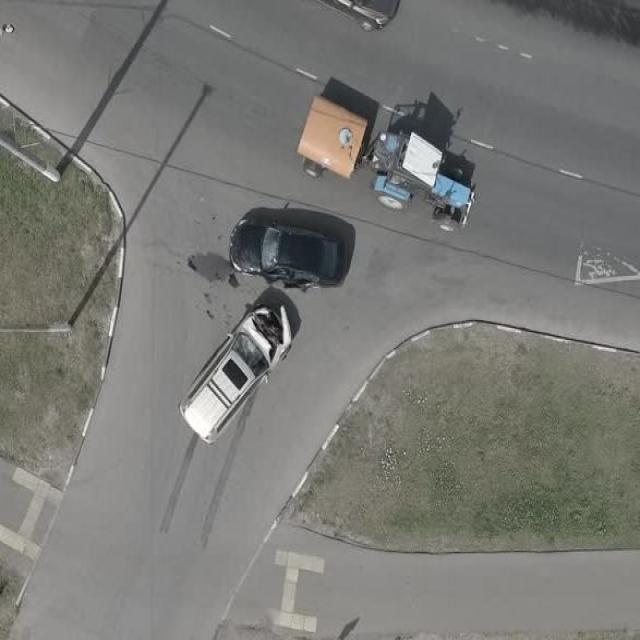traffic_incident: (184, 209, 357, 440)
